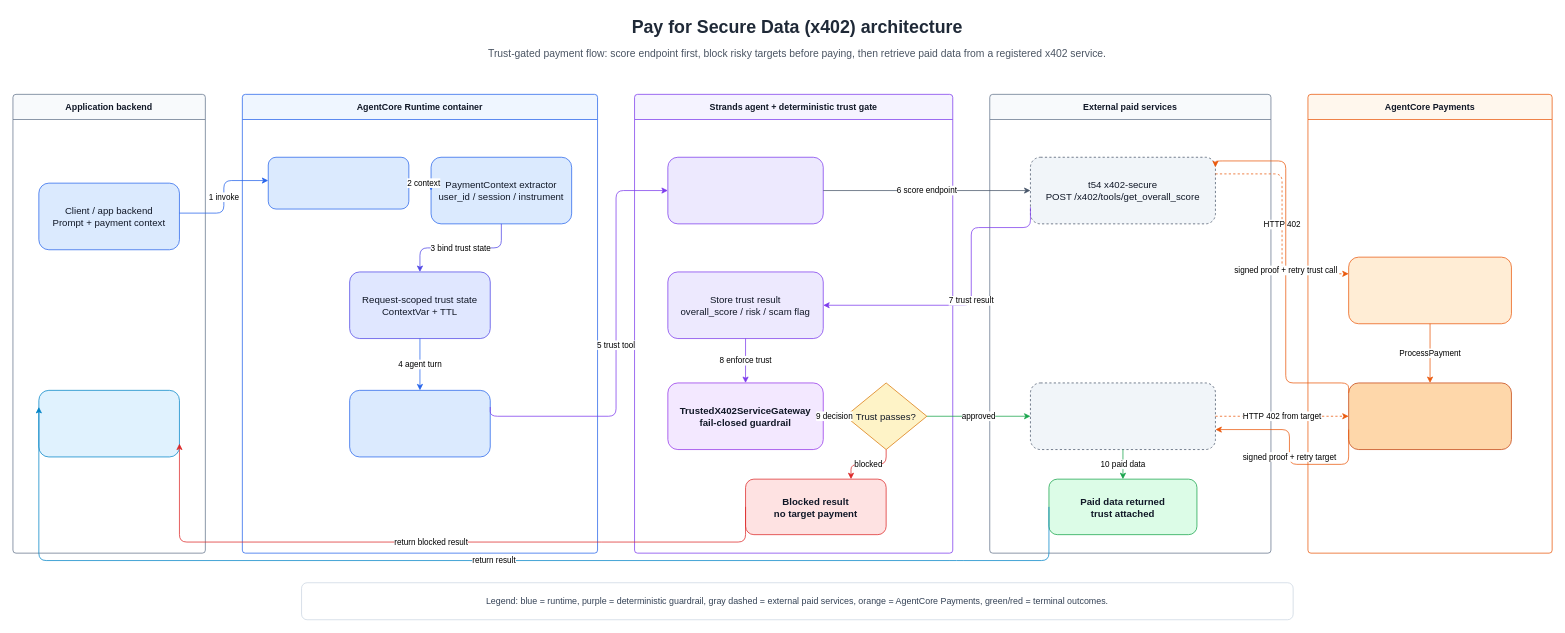
The diagram is 1565 pixels wide and 633 high, and some of its shapes have lost their labels. Each missing label, with the centre of its shape:
"/invocations endpoint" belongs at (x=338, y=183).
"AgentCorePaymentsPlugin handles HTTP 402 retry" belongs at (x=1429, y=290).
"check_x402_endpoint_trust score exact target URL" belongs at (x=745, y=190).
"ProcessPayment signed x402 proof from session budget" belongs at (x=1429, y=416).
"Registered x402 service Heurist YahooFinanceAgent" belongs at (x=1122, y=416).
"Response to caller blocked result or paid data" belongs at (x=108, y=423).
"Strands agent tools + payments plugin" belongs at (x=419, y=423).
